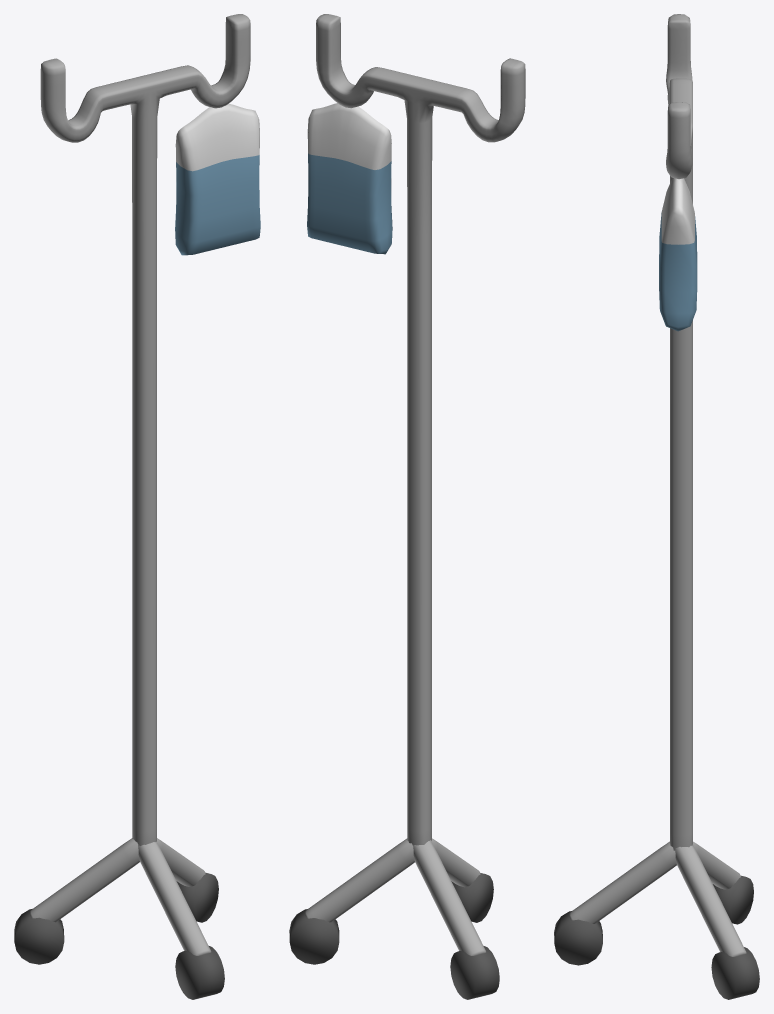
File: IVstand2.glb
3 renders of one model, left to right at view 1: azimuth 30°, elevation 25°; view 2: azimuth 150°, elevation 25°; view 3: azimuth 270°, elevation 25°, orthographic. The views are drawn at different scales.
Visible parts, largest first — view 1: IV_pole, IV_bag; view 2: IV_pole, IV_bag; view 3: IV_pole, IV_bag.
Boxes of the visible parts, x1,y1,x2,y2 form: IV_pole: (14, 14, 250, 999); IV_bag: (175, 103, 260, 255); IV_pole: (289, 14, 525, 999); IV_bag: (307, 103, 392, 254); IV_pole: (554, 14, 759, 999); IV_bag: (659, 178, 697, 331).
Size of the model in its own units: 0.5747 by 2.33 by 0.4841.
